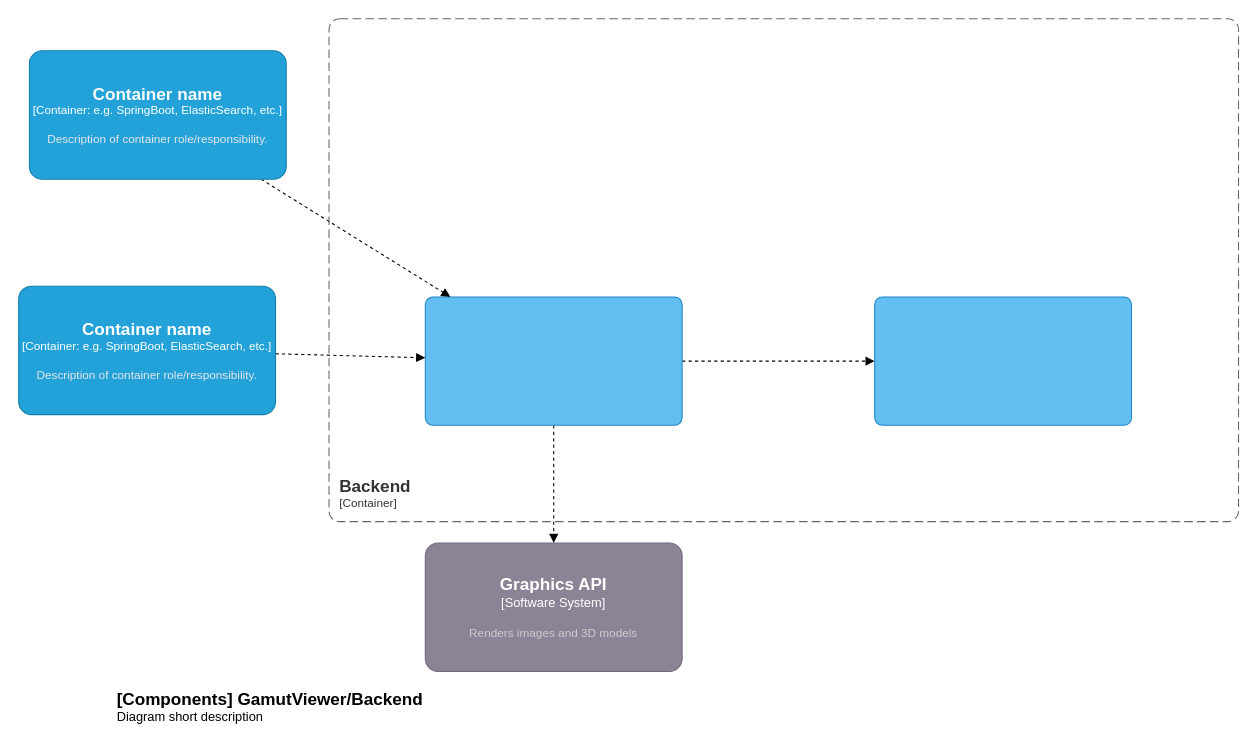
Some shapes in this 1257 by 745 pixel diagram are drawn without their labels. Each missing label, with the centre of its shape:
Color Space [Component: C++ lib] Conversion between color spaces: the point at 1003,360
Renderer [Component: e.g. Spring Service] Renders images and 3D models: the point at 553,360
